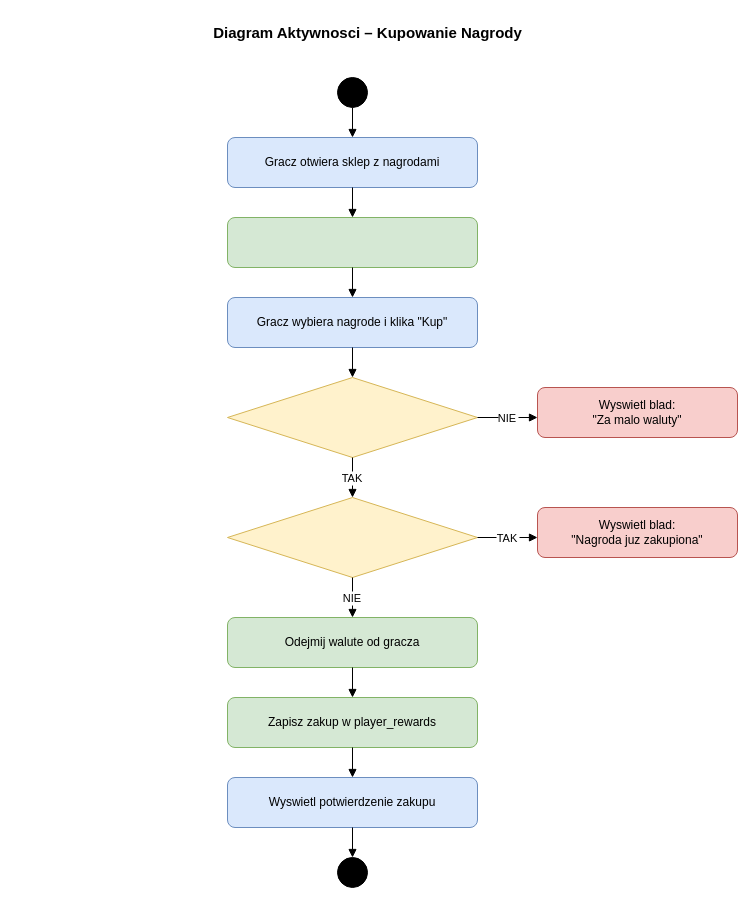
This 755x905 diagram has some shape labels left out. The shapes that lost their labels are listed below. From the top down, each one's centre as x and y in pixels, then its label:
[352,242]: System pobiera nagrody dostepne dla poziomu gracza
[352,417]: Czy gracz ma wystarczajaco waluty?
[352,537]: Czy nagroda juz kupiona?
